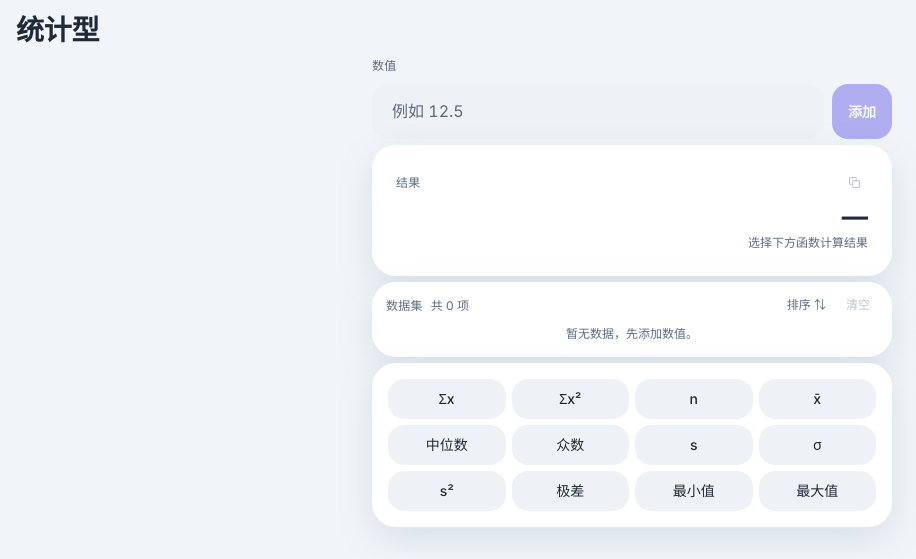
Scenario: StatisticsPage › keeps the input when the engine rejects a value
Type "abc" into the field labelled "数值" at (598,111), box [372,84,824,139]
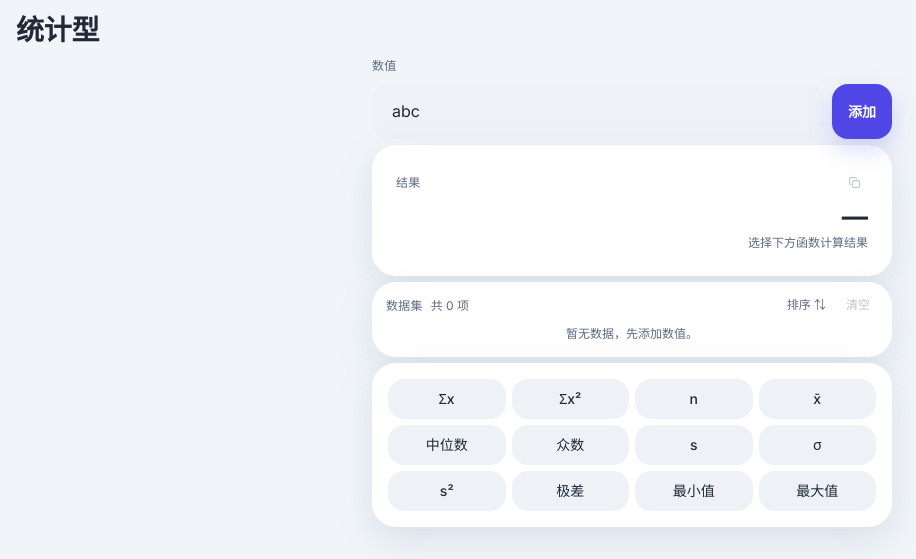
Click the button "添加" at (862,111), box [832,84,892,139]
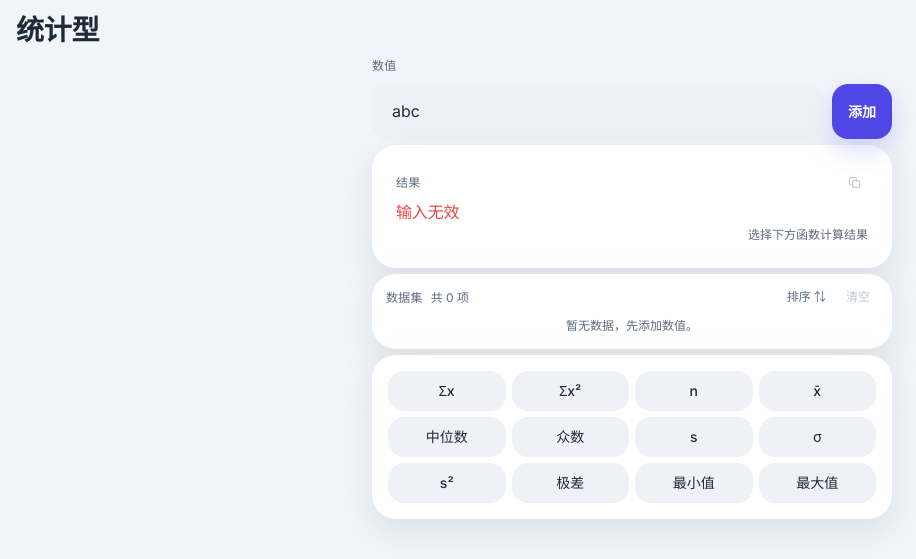
Check: the text with test id "stats-result" reads "输入无效", box [396,202,459,222]
